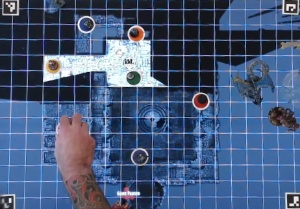blue: (75, 14, 94, 33)
green: (123, 67, 145, 85)
orange: (127, 24, 147, 42)
red: (191, 90, 211, 112)
violet: (129, 146, 149, 166)
yellow: (42, 54, 60, 74)
